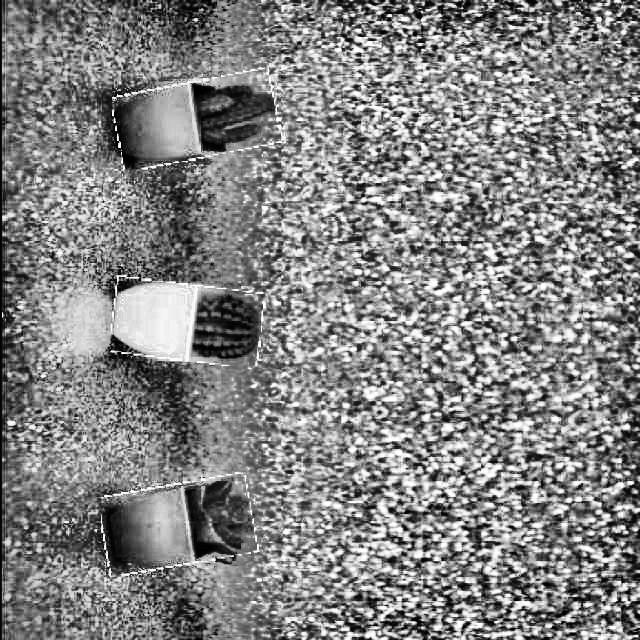plants: (111, 74, 277, 164), (99, 478, 253, 571), (110, 281, 261, 364)
